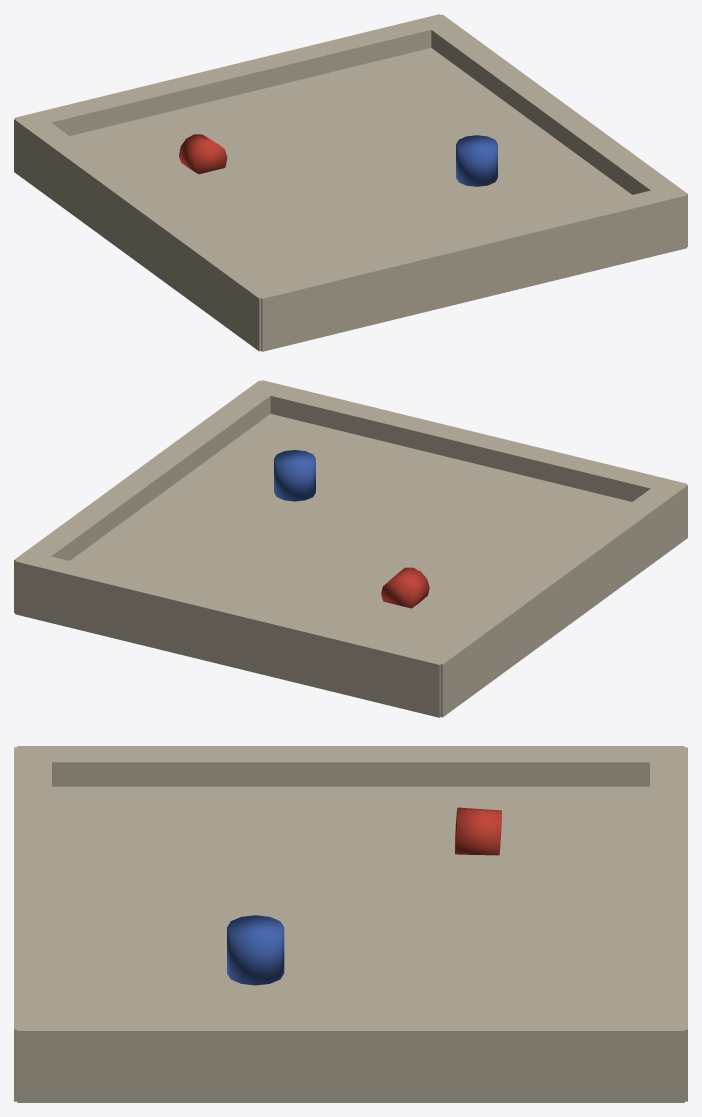
File: hood_sandbox.glb
3 renders of one model, top to bottom at view 1: azimuth 30°, elevation 25°; view 2: azimuth 150°, elevation 25°; view 3: azimuth 270°, elevation 25°, orthographic. The views are drawn at different scales.
Visible parts, largest first — view 1: timber, sand, pail, pail2; view 2: timber, sand, pail, pail2; view 3: sand, timber, pail, pail2.
Boxes of the visible parts, left/top/right/bottom form: timber: left=14, top=14, right=687, bottom=351; sand: left=70, top=48, right=631, bottom=283; pail: left=456, top=135, right=497, bottom=186; pail2: left=179, top=134, right=227, bottom=174; timber: left=14, top=380, right=687, bottom=717; sand: left=70, top=414, right=631, bottom=649; pail: left=274, top=450, right=315, bottom=501; pail2: left=381, top=567, right=429, bottom=608; sand: left=52, top=786, right=649, bottom=1014; timber: left=14, top=746, right=687, bottom=1102; pail: left=227, top=915, right=284, bottom=985; pail2: left=455, top=807, right=501, bottom=855.
Bounding box in the file's own units: 2.12 × 0.325 × 2.12.
